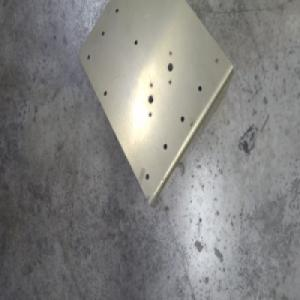MetalSheet: (76, 0, 236, 209)
